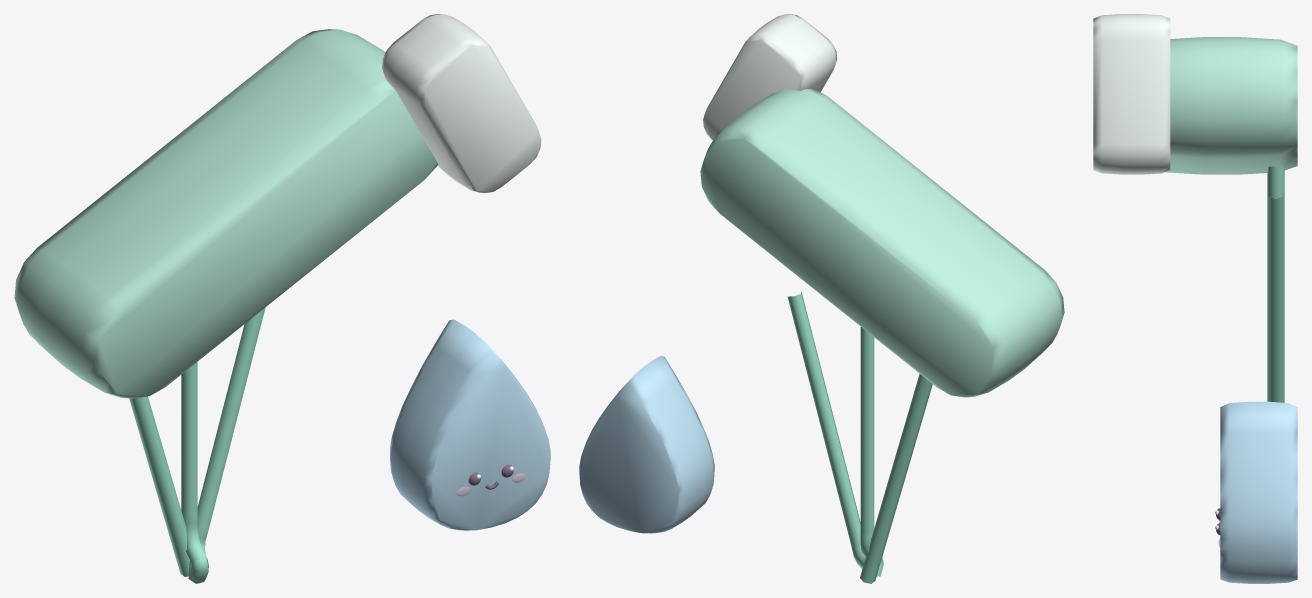
The model's file is decor_6_mint.glb.
The picture shows the model from 3 angles, left to right: view 1: azimuth 30°, elevation 25°; view 2: azimuth 150°, elevation 25°; view 3: azimuth 270°, elevation 25°; orthographic projection. The views are drawn at different scales.
Visible parts, largest first — view 1: decor_6_mint; view 2: decor_6_mint; view 3: decor_6_mint.
Boxes of the visible parts, box(x1,y1,x2,y2) form: decor_6_mint: box(14, 14, 550, 583); decor_6_mint: box(579, 14, 1064, 583); decor_6_mint: box(1093, 14, 1297, 583).
Bounding box in the file's own units: 9.33 × 9.9 × 3.53.
